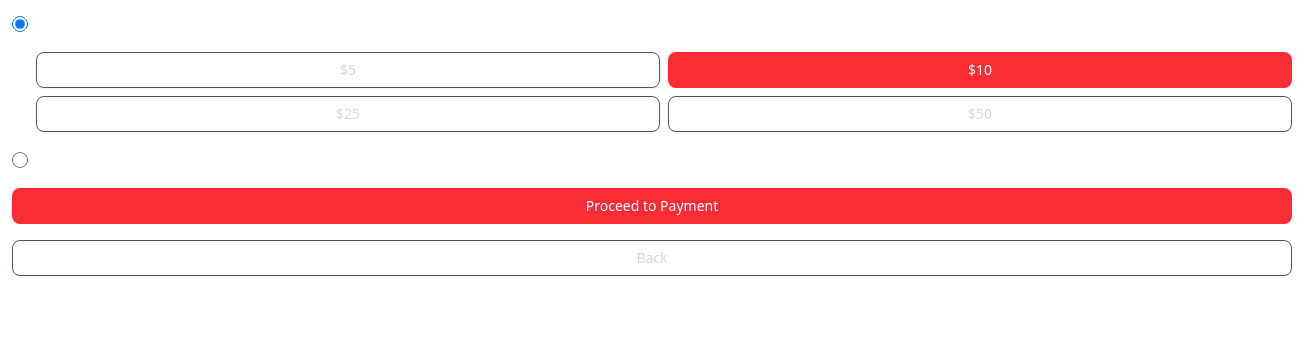
Test: DonationCheckout › should handle API errors gracefully
Click the button "Proceed to Payment" at coordinates (652, 206), box [12,188,1292,224]
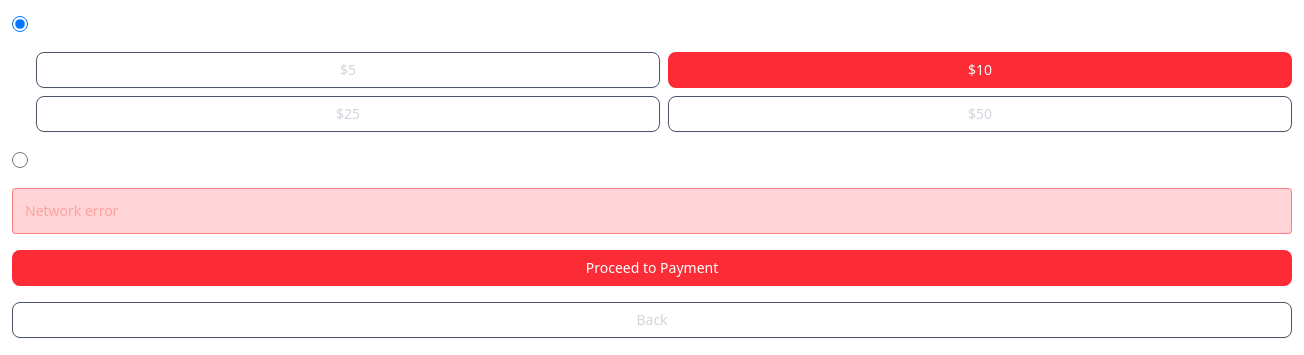
Check: the text "Network error" is shown, box [12,188,1292,234]
